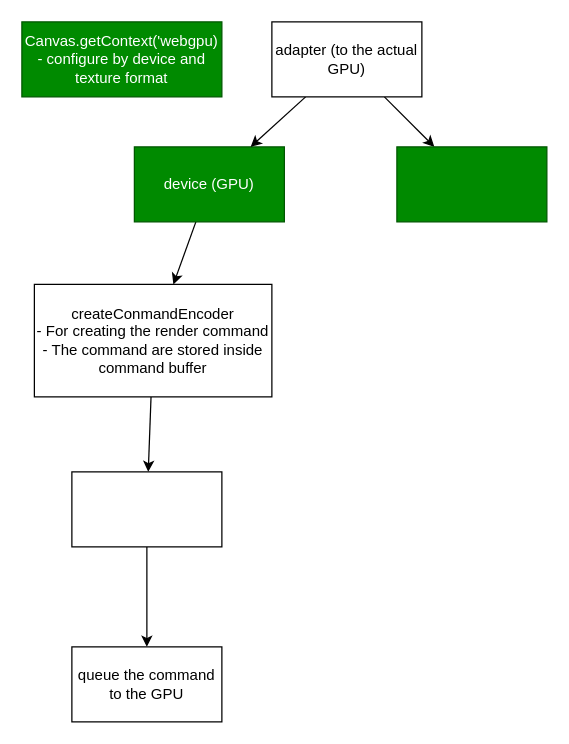
This 569x744 diagram has some shape labels left out. The shapes that lost their labels are listed below. From the top down, each one's centre as x and y in pixels, then its label:
At (x=471, y=184): "texture format".
At (x=146, y=509): "renderPass - define the gpu operaition".
